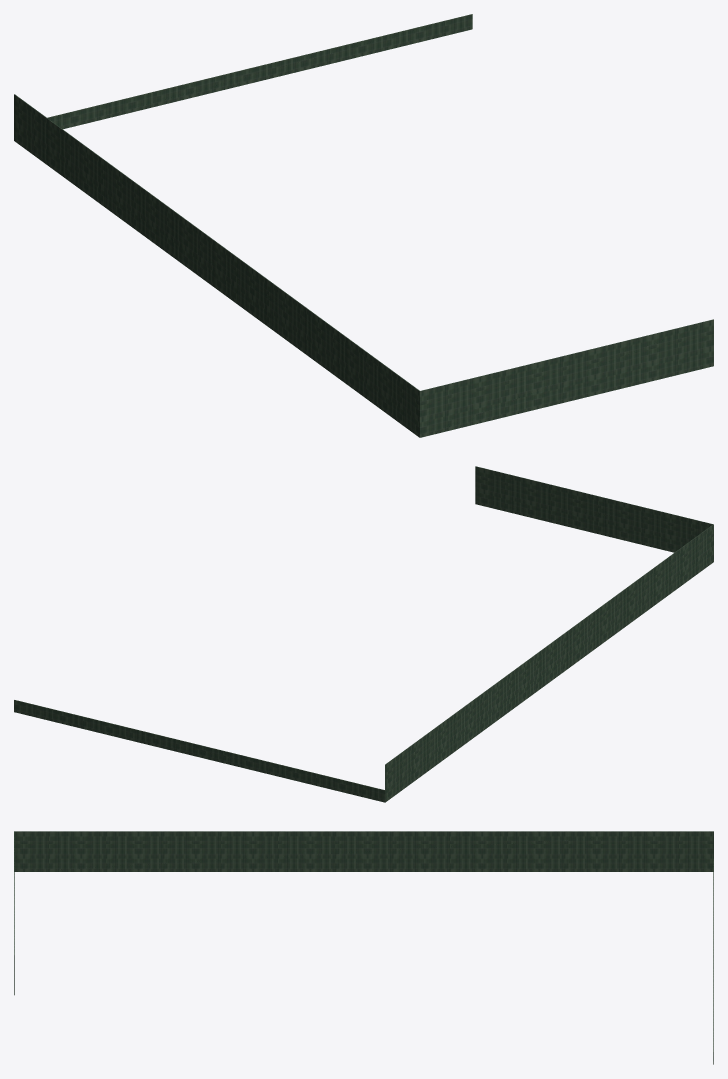
File: 2345_kitchen_BP_PassionVerde.gltf
3 renders of one model, top to bottom at view 1: azimuth 30°, elevation 25°; view 2: azimuth 150°, elevation 25°; view 3: azimuth 270°, elevation 25°, orthographic. The views are drawn at different scales.
Parts seen in each view (by area): view 1: BP_Passion Verde; view 2: BP_Passion Verde; view 3: BP_Passion Verde.
Boxes of the visible parts, bbox=[...] form: BP_Passion Verde: bbox=[14, 14, 713, 437]; BP_Passion Verde: bbox=[14, 466, 713, 802]; BP_Passion Verde: bbox=[14, 831, 713, 1064].
Bounding box in the file's own units: 6.39 × 0.62 × 9.8.
1 material, 1 textured.
